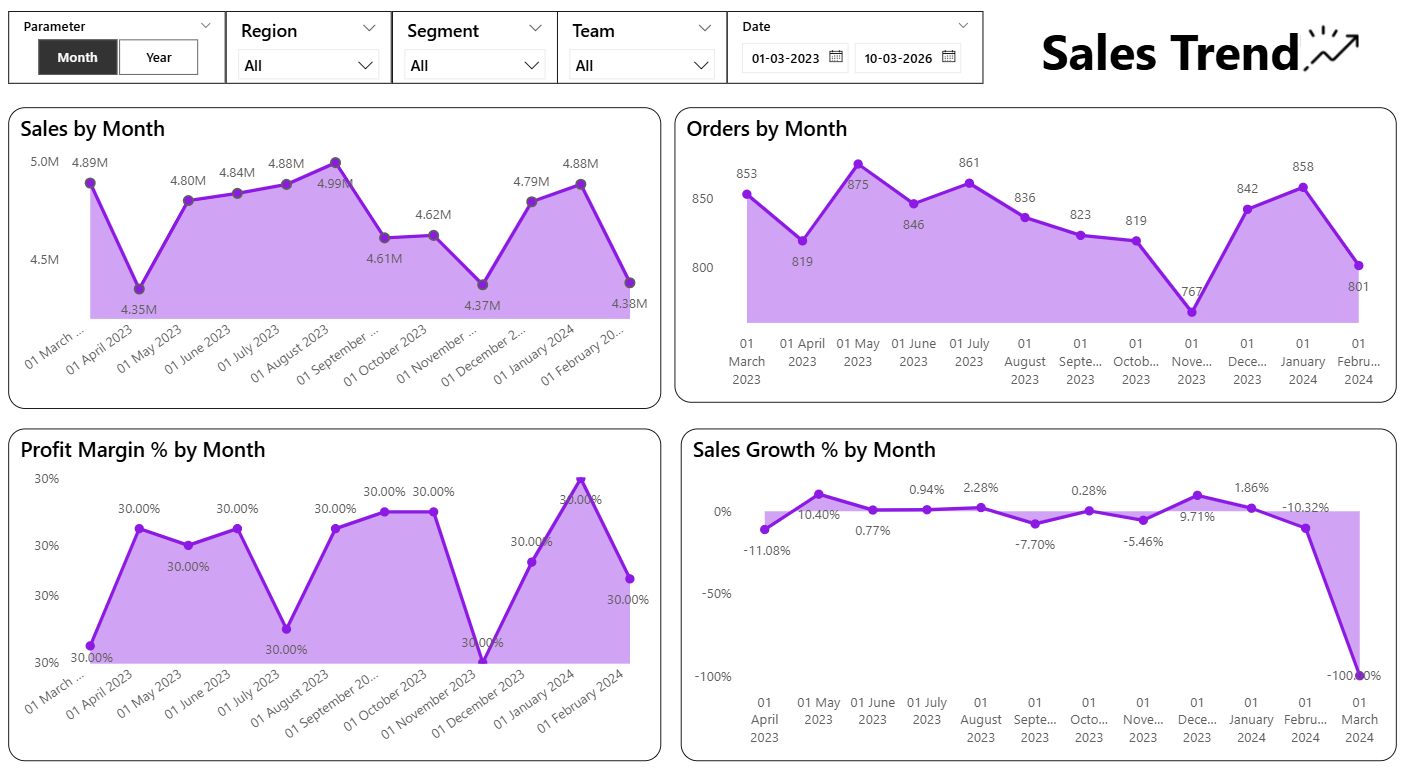

Layout of this report page (visuals, bound fields, positions):
{"tool":"powerbi","page":{"name":"Sales Trend","canvas":[1280,720],"ordinal":1},"visuals":[{"type":"slicer","fields":{"Values":["Calender.Date"]},"box":[663,17.5,231.3,65.9],"z":0},{"type":"slicer","fields":{"Values":["SalesData.Region"]},"box":[211.1,17.5,149.3,65.9],"z":1000},{"type":"slicer","fields":{"Values":["SalesData.Segment"]},"box":[360.4,17.5,149.3,65.9],"z":2000},{"type":"slicer","fields":{"Values":["SalesData.Team"]},"box":[509.7,17.5,153.3,65.9],"z":3000},{"type":"actionButton","box":[914.5,0,322.8,106.2],"z":4000},{"type":"slicer","fields":{"Values":["Parameter.Parameter"]},"box":[14.8,17.5,196.3,65.9],"z":5000},{"type":"lineChart","fields":{"Category":["Calender.Start of Month"],"Y":["_All Measures.Sales Growth %"]},"box":[621.3,394,645.5,299.9],"z":6000},{"type":"lineChart","fields":{"Category":["Calender.Start of Month"],"Y":["_All Measures.Profit Margin %"]},"box":[14.8,394,589,299.9],"z":7000},{"type":"lineChart","title":" Sales by Month","fields":{"Category":["Calender.Start of Month"],"Y":["_All Measures.Total Sales"]},"box":[14.8,104.9,589,271.7],"z":8000},{"type":"lineChart","title":"Orders by Month","fields":{"Category":["Calender.Start of Month"],"Y":["_All Measures.Total Orders"]},"box":[615.9,104.9,650.9,266.3],"z":9000}]}

Visuals, with their boxes in screenshot pixels (x1, y1, x2, y2), scaled from the page's 1280x720 canvas onto the 1406x769 screenshot:
slicer - Calender.Date: region(728, 19, 982, 89)
slicer - SalesData.Region: region(232, 19, 396, 89)
slicer - SalesData.Segment: region(396, 19, 560, 89)
slicer - SalesData.Team: region(560, 19, 728, 89)
actionButton: region(1005, 0, 1359, 113)
slicer - Parameter.Parameter: region(16, 19, 232, 89)
lineChart - Calender.Start of Month x _All Measures.Sales Growth %: region(682, 421, 1392, 741)
lineChart - Calender.Start of Month x _All Measures.Profit Margin %: region(16, 421, 663, 741)
" Sales by Month" lineChart: region(16, 112, 663, 402)
"Orders by Month" lineChart: region(677, 112, 1392, 396)
